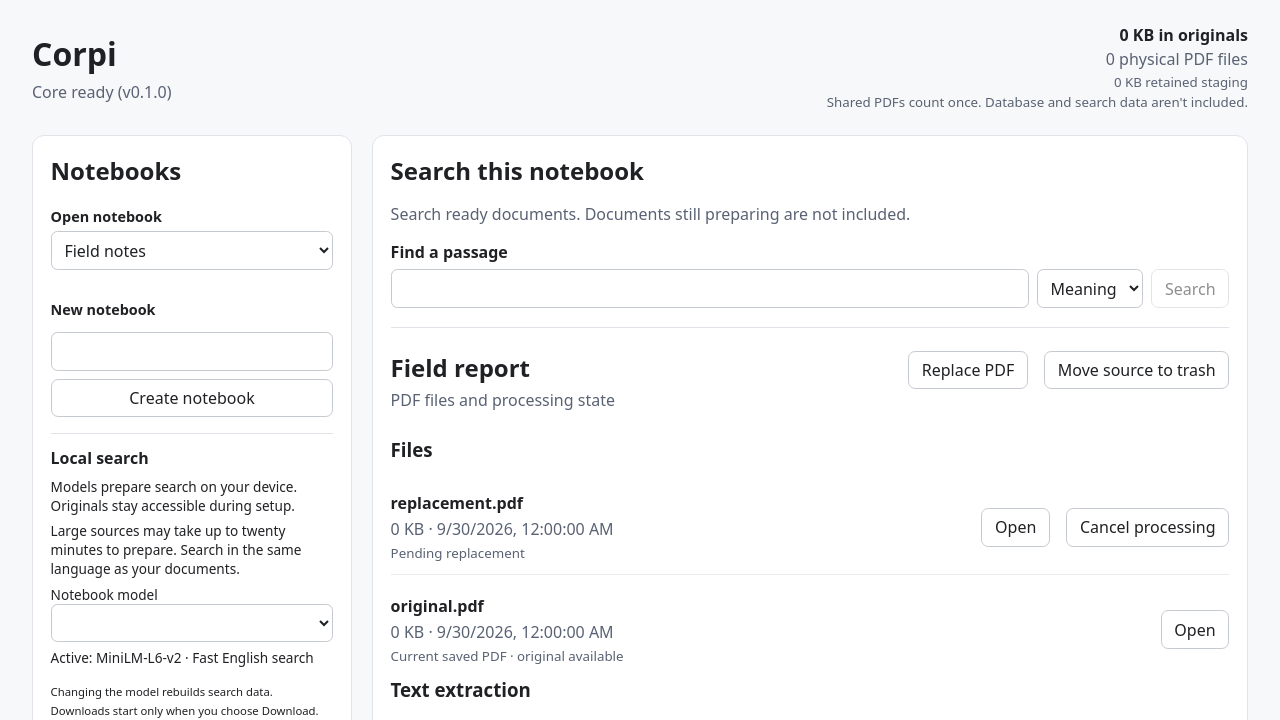
cancels the review-waiting replacement and keeps the original file available
Click the button "Cancel processing".
click(1148, 527)  # box left=1066, top=508, right=1229, bottom=547
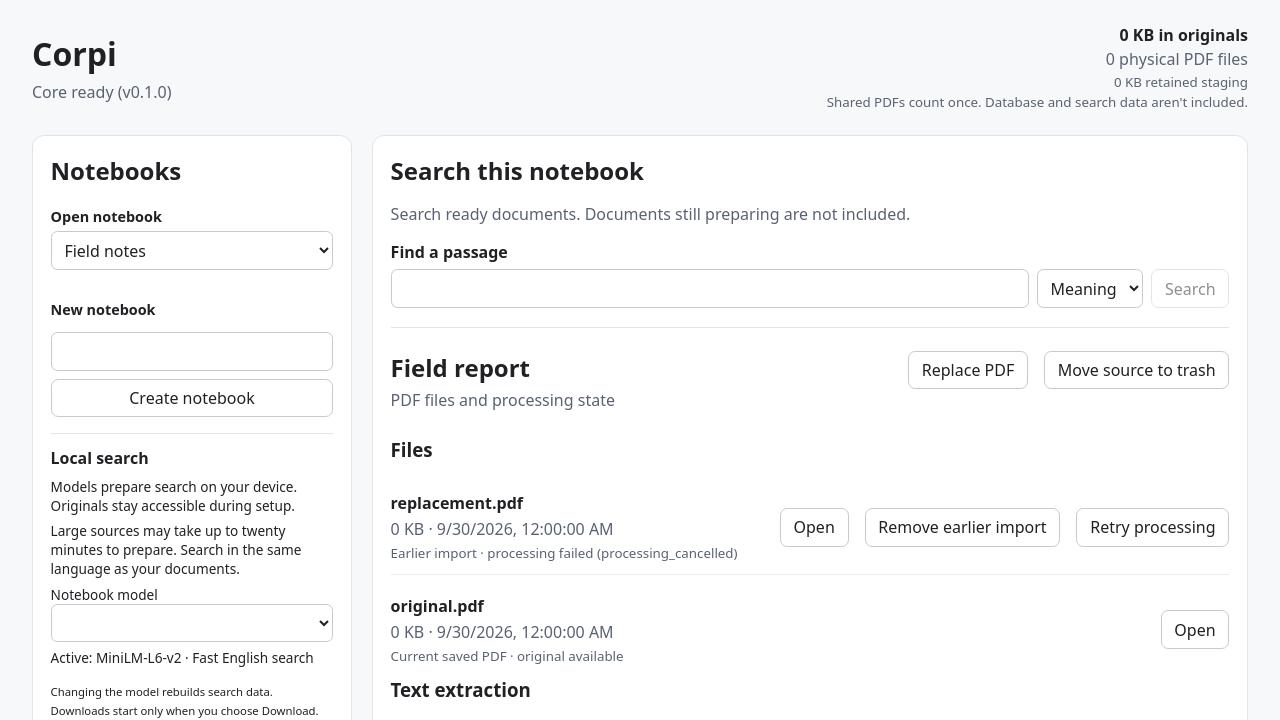
Check: the button "Open" in the row of "original.pdf" is enabled, box left=1161, top=610, right=1229, bottom=649
Check: the button "Retry processing" is shown, box left=1076, top=508, right=1229, bottom=547
Check: the button "Cancel processing" is gone
